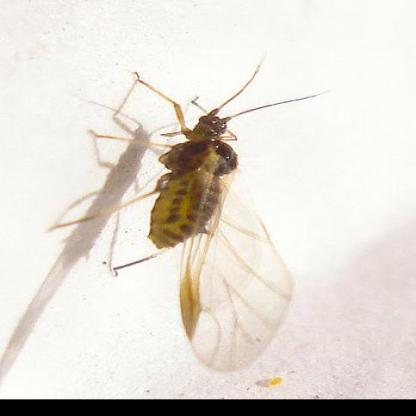aphid: (63, 55, 329, 374)
